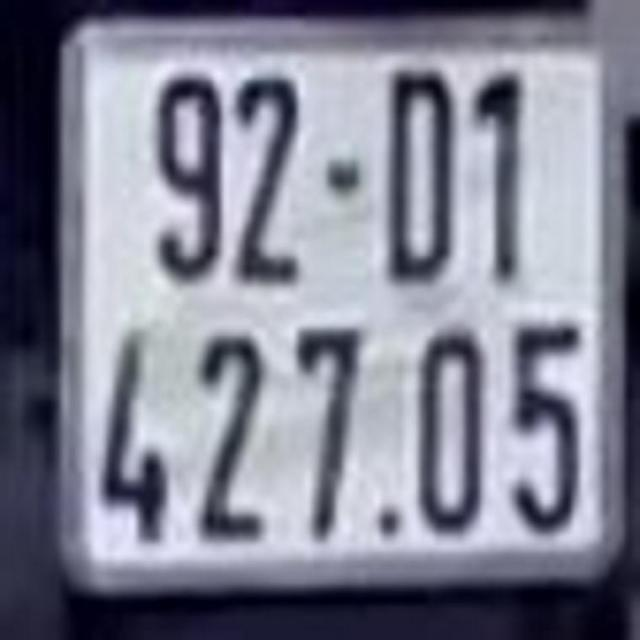0: (412, 320, 488, 535)
1: (474, 67, 522, 280)
2: (188, 332, 270, 540), (232, 76, 306, 284)
4: (95, 320, 177, 543)
5: (510, 310, 587, 532)
7: (282, 316, 362, 542)
9: (149, 67, 225, 280)
D: (376, 65, 464, 288)
